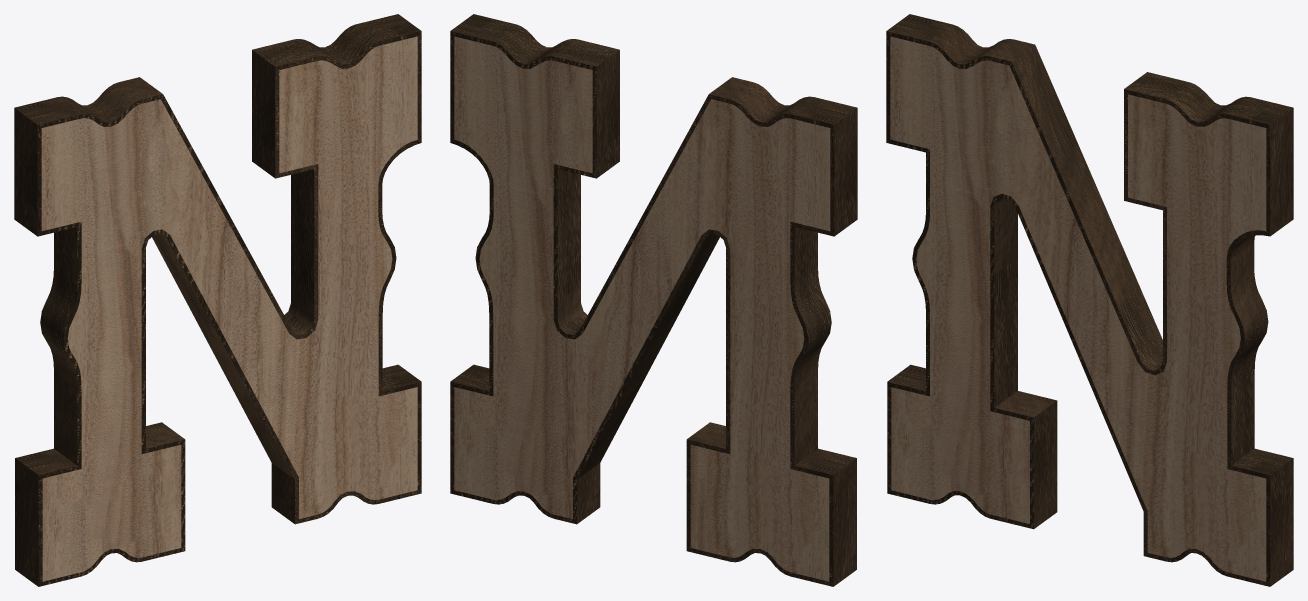
The picture shows the model from 3 angles, left to right: view 1: azimuth 30°, elevation 25°; view 2: azimuth 150°, elevation 25°; view 3: azimuth 330°, elevation 25°; orthographic projection.
Visible parts, largest first — view 1: N, N_outline; view 2: N, N_outline; view 3: N, N_outline.
Boxes of the visible parts, x1=… form: N: x1=41, y1=36, x2=417, y2=581; N_outline: x1=14, y1=14, x2=421, y2=586; N: x1=454, y1=36, x2=830, y2=581; N_outline: x1=450, y1=14, x2=857, y2=586; N: x1=890, y1=36, x2=1266, y2=581; N_outline: x1=886, y1=14, x2=1293, y2=586.
Bounding box in the file's own units: 94.59 × 109 × 10.
2 materials, 2 textured.
